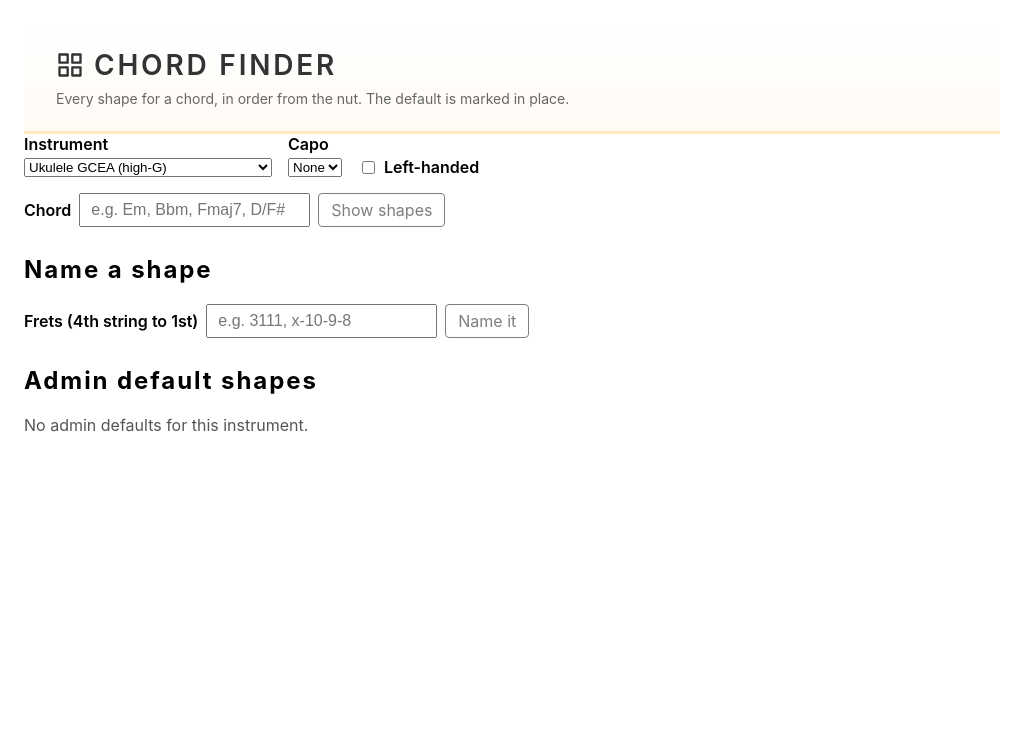
Scenario: ChordFinder › a stale admin default is flagged
Type "Em" into the field labelled "Chord" at (195, 210), box [79,193,310,227]
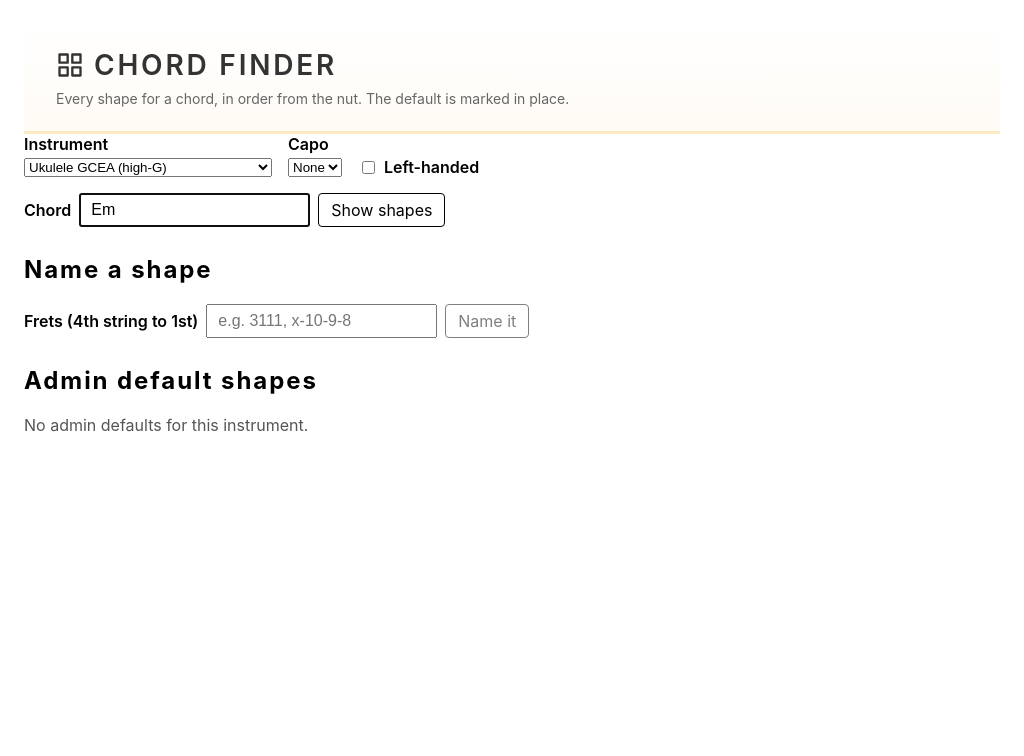
Click the button "Show shapes" at (382, 210), box [318,193,445,227]
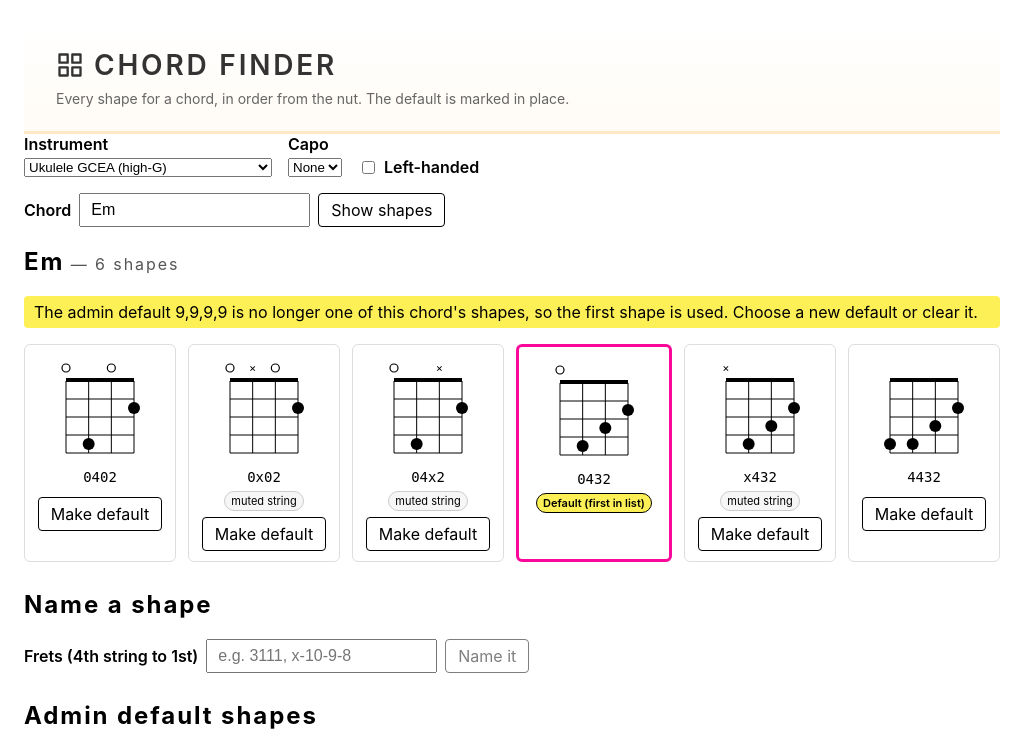
Expected: the text "9,9,9,9 is no longer one of this chord's shapes" is shown, [24,296,1000,328]
